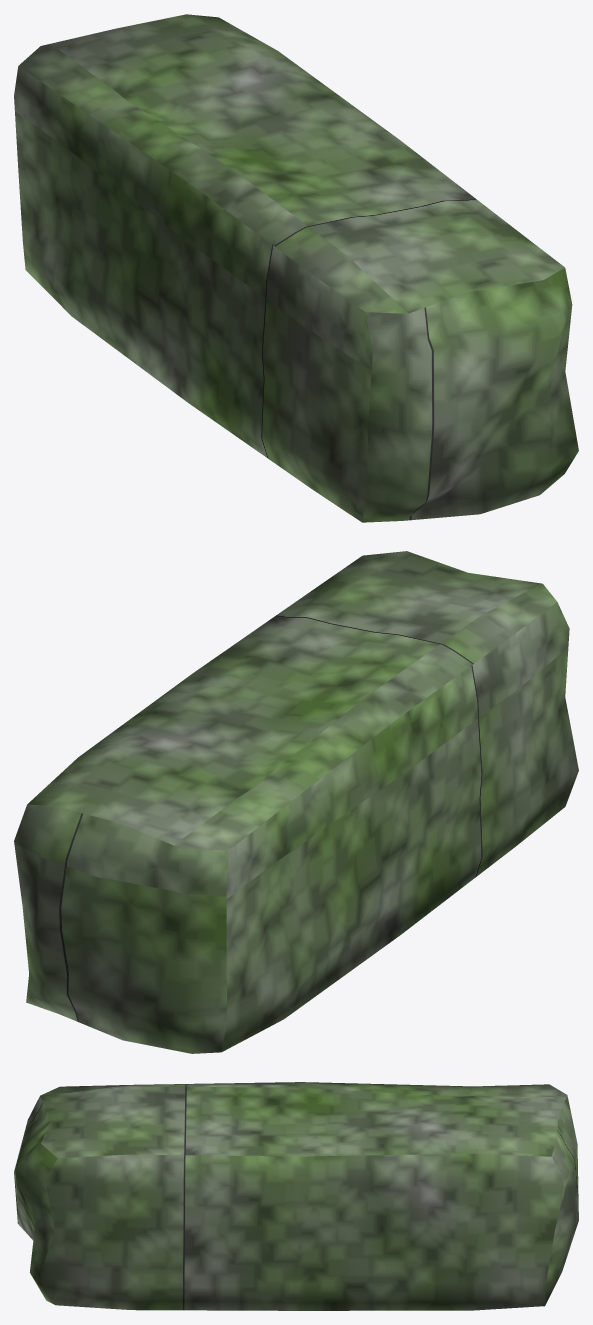
Rendered from Block(1x1).fbx.
The picture shows the model from 3 angles, top to bottom: view 1: azimuth 30°, elevation 25°; view 2: azimuth 150°, elevation 25°; view 3: azimuth 270°, elevation 25°; orthographic projection. The views are drawn at different scales.
Visible parts, largest first — view 1: Cube; view 2: Cube; view 3: Cube.
Boxes of the visible parts, x1=… form: Cube: x1=14, y1=14, x2=578, y2=522; Cube: x1=14, y1=551, x2=578, y2=1053; Cube: x1=14, y1=1082, x2=578, y2=1310.
Bounding box in the file's own units: 1.04 × 1.04 × 3.12.
